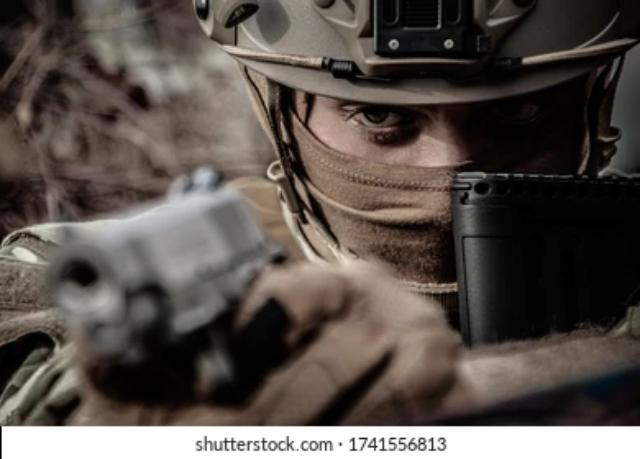other: (219, 0, 639, 411)
